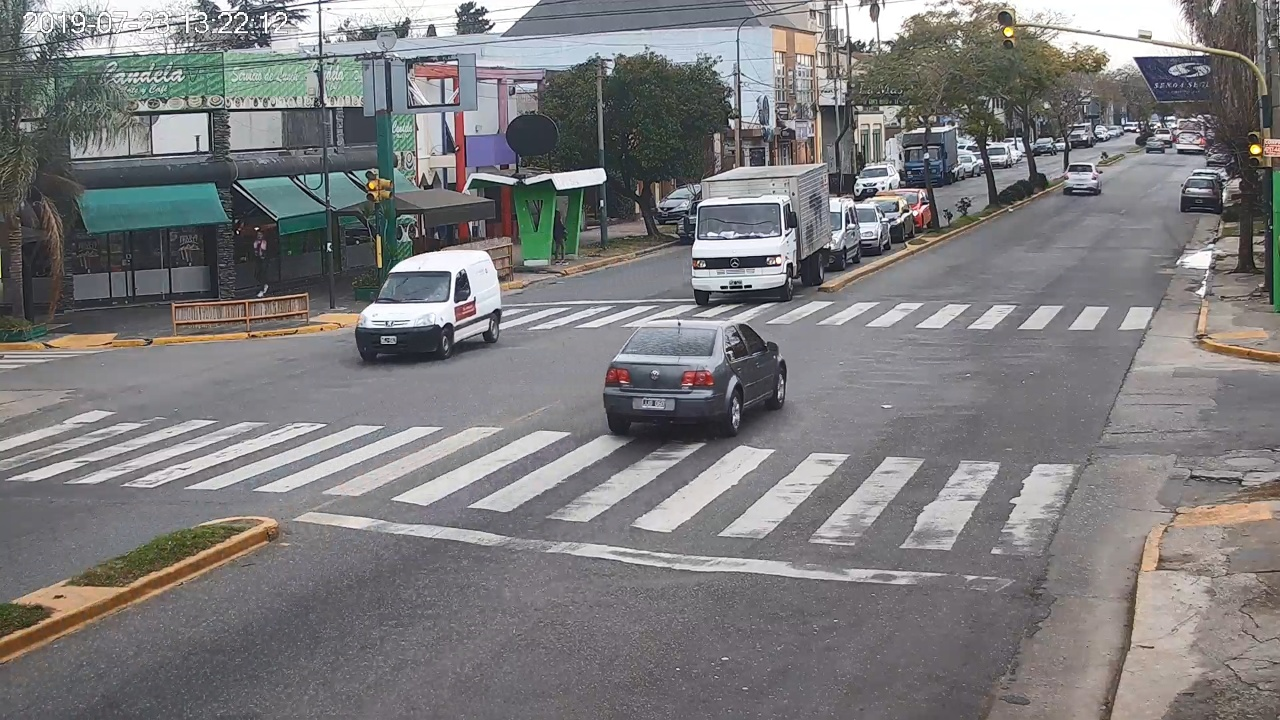car: (603, 320, 787, 435)
front car: (355, 250, 502, 361)
traffic light: (999, 9, 1016, 49), (1247, 132, 1262, 168)
